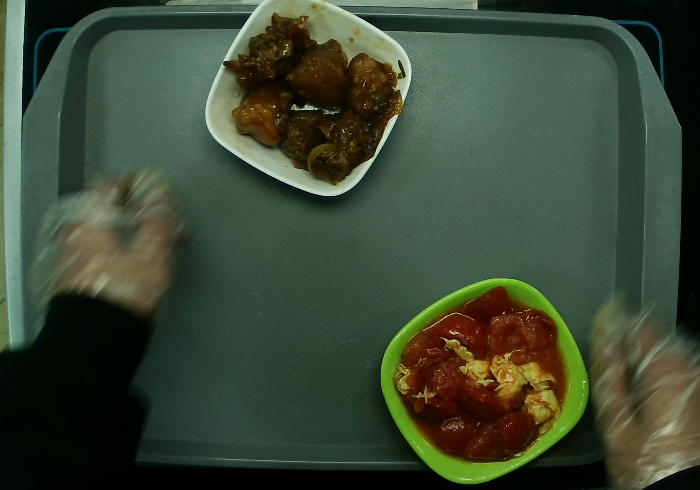SHKJ-Bai_Se_Xiao_Fang_Die: (204, 1, 411, 196)
SHKJ-Lv_Se_Cai_Die: (380, 277, 589, 483)
